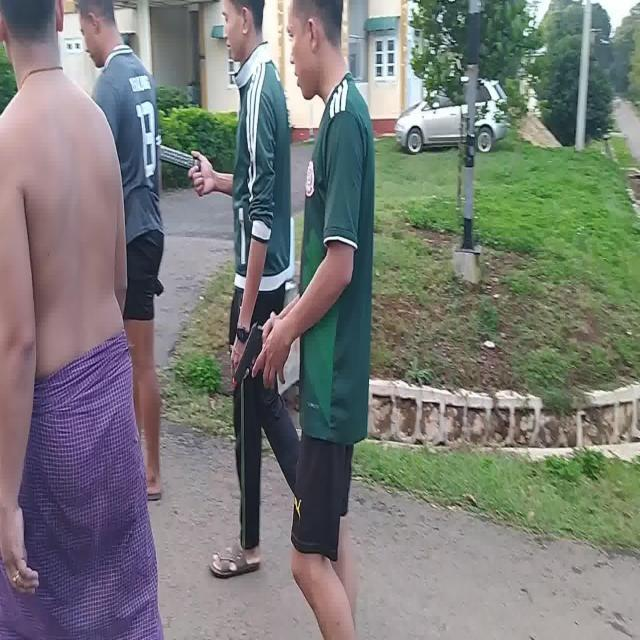gun: (234, 322, 265, 386)
